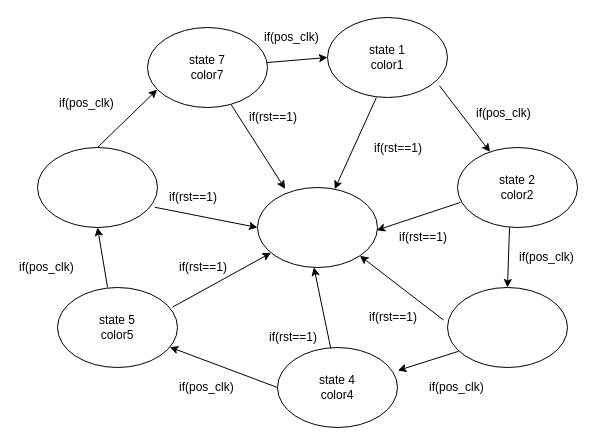
The diagram is 604 pixels wide and 445 high, and some of its shapes have lost their labels. Here are the shapes that lost their labels. From the top down, the box of each, then its label:
(36, 146, 158, 228): state 6 color6
(256, 186, 378, 268): rst led-off
(446, 286, 568, 368): state 3 color3
